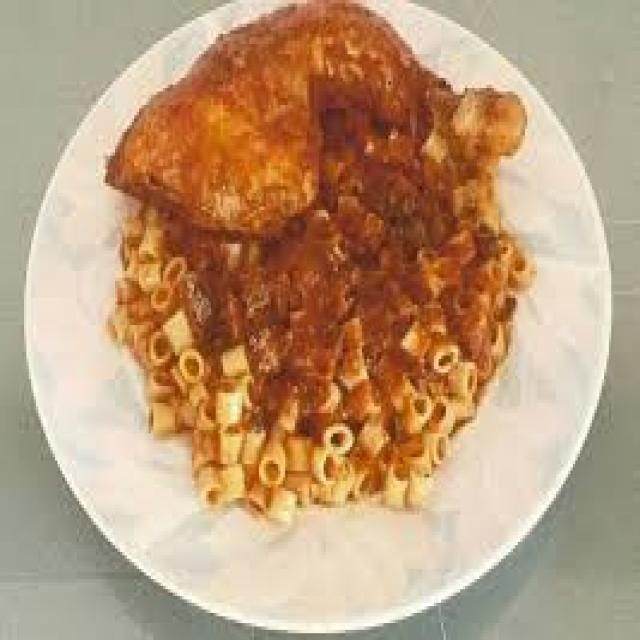Pasta: (105, 10, 565, 513)
